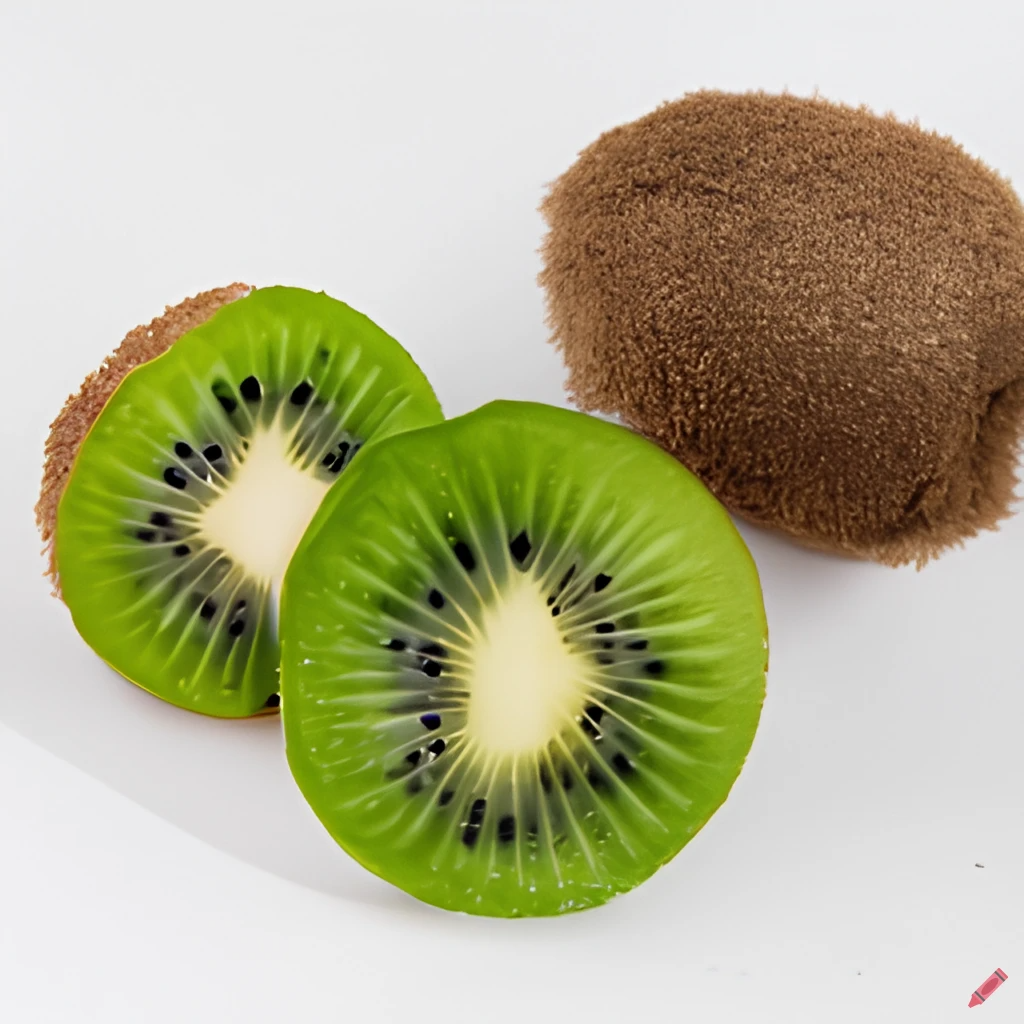Kiwi: (278, 407, 764, 946), (494, 78, 1024, 558)
